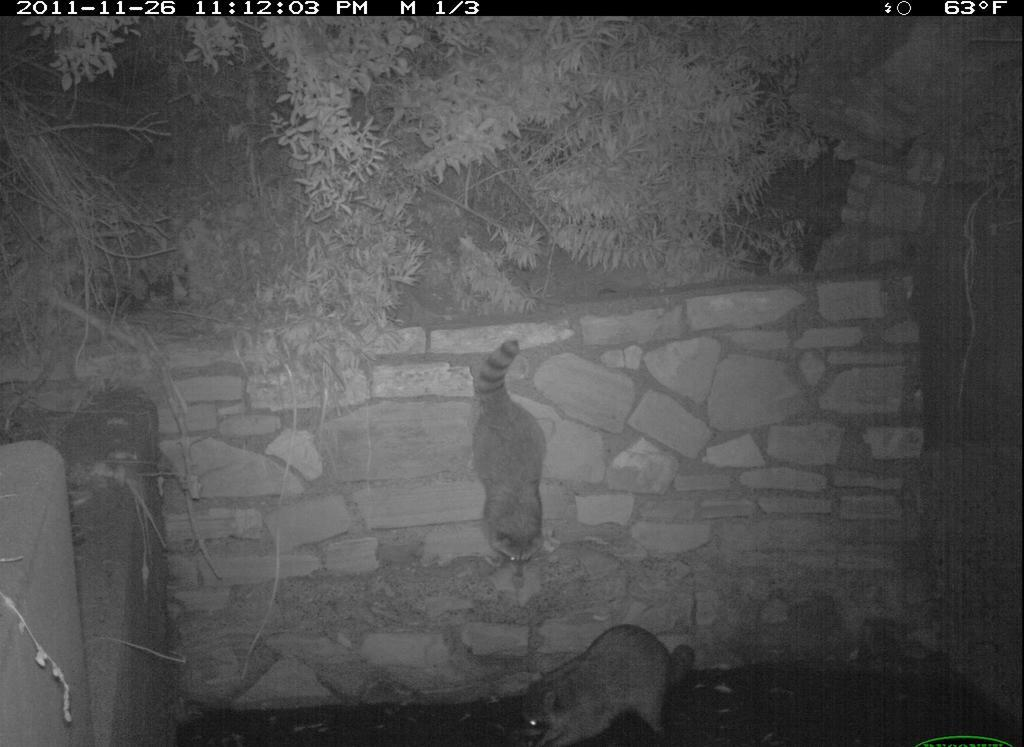raccoon: (501, 616, 713, 747), (461, 338, 565, 582)
